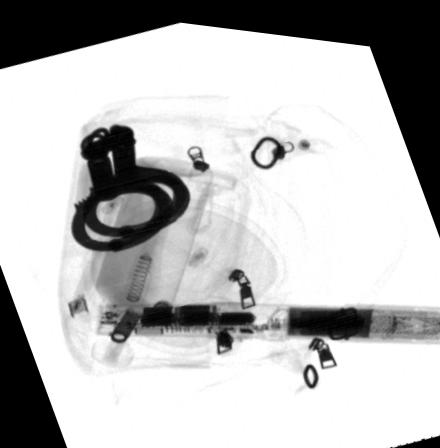Baton: (93, 293, 440, 335)
HandCuffs: (69, 118, 192, 250)
